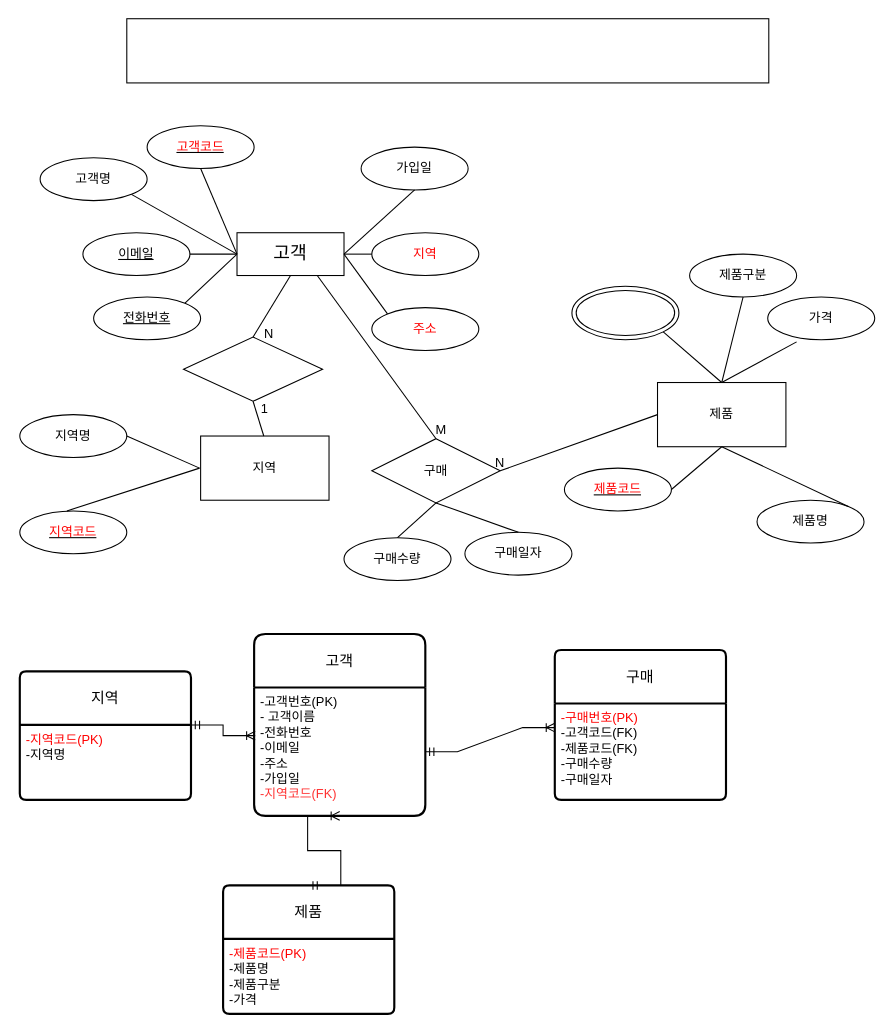
Some shapes in this 893 by 1034 pixel diagram are drawn without their labels. Each missing label, with the box of its shape:
Logical Data Modeling(RM): (126, 18, 769, 83)
관리: (182, 336, 323, 401)
제품 색상: (571, 285, 679, 340)
